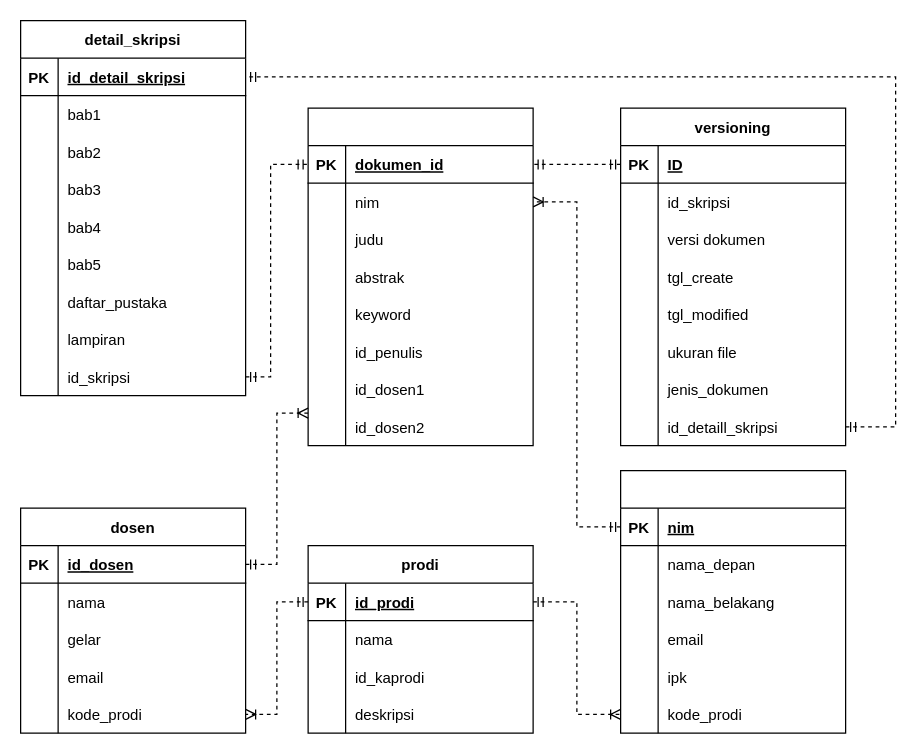
This 916x754 diagram has some shape labels left out. Each missing label, with the box of its shape:
mahasiswa: (619, 469, 846, 733)
skripsi: (307, 107, 533, 446)
